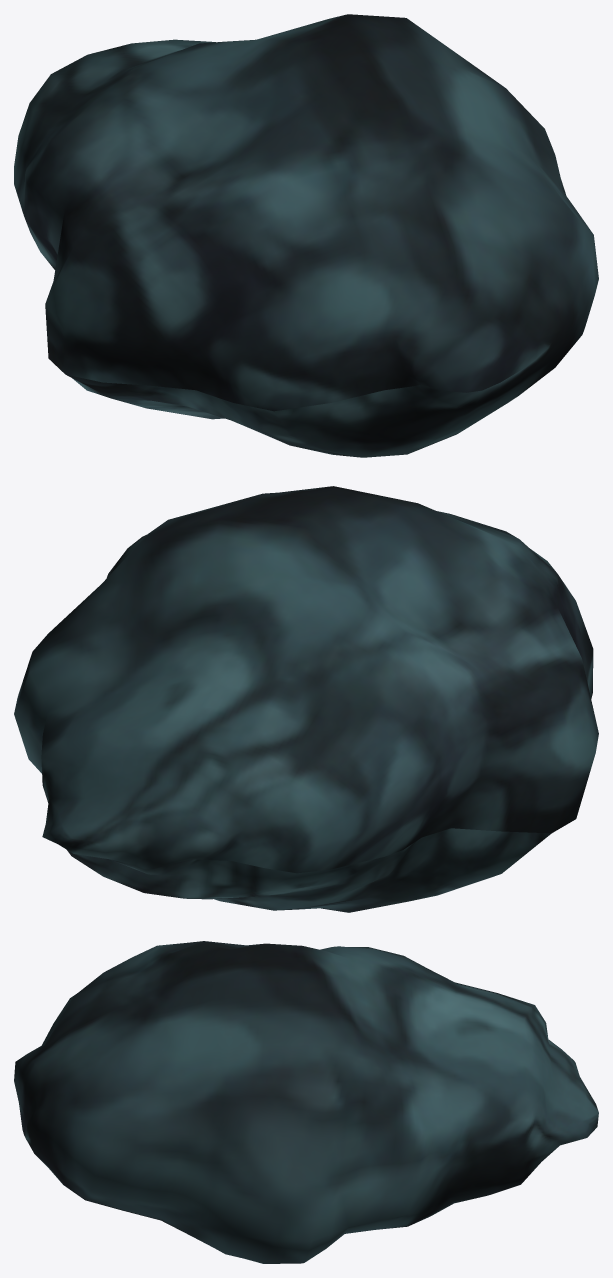
File: rock.fbx
3 renders of one model, top to bottom at view 1: azimuth 30°, elevation 25°; view 2: azimuth 150°, elevation 25°; view 3: azimuth 270°, elevation 25°, orthographic. The views are drawn at different scales.
Parts seen in each view (by area): view 1: Cube; view 2: Cube; view 3: Cube.
Boxes of the visible parts, x1=… form: Cube: x1=14, y1=14, x2=598, y2=457; Cube: x1=14, y1=486, x2=598, y2=912; Cube: x1=14, y1=941, x2=598, y2=1263.
Size of the model in its own units: 6.88 by 4.93 by 8.72.
Materials: 1 (1 with a texture image).
